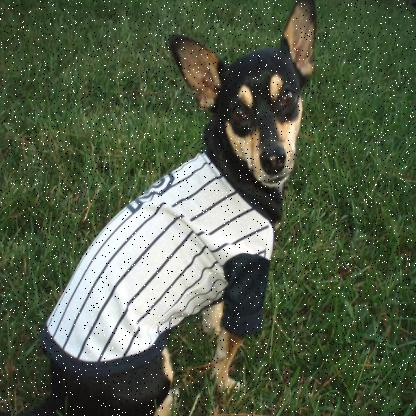dog: (34, 2, 319, 409)
